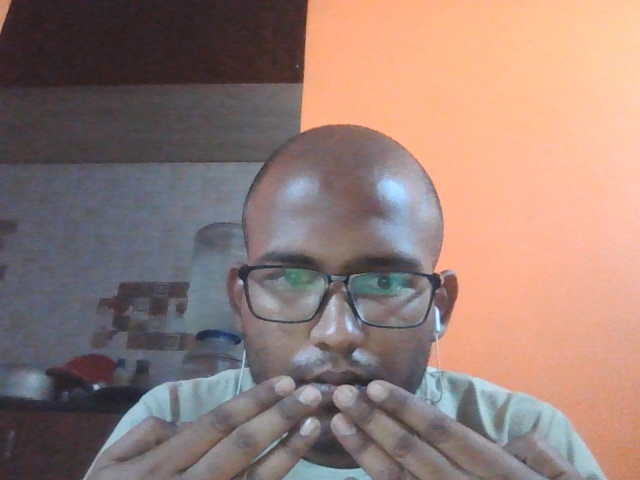thanks: (40, 359, 596, 480)
